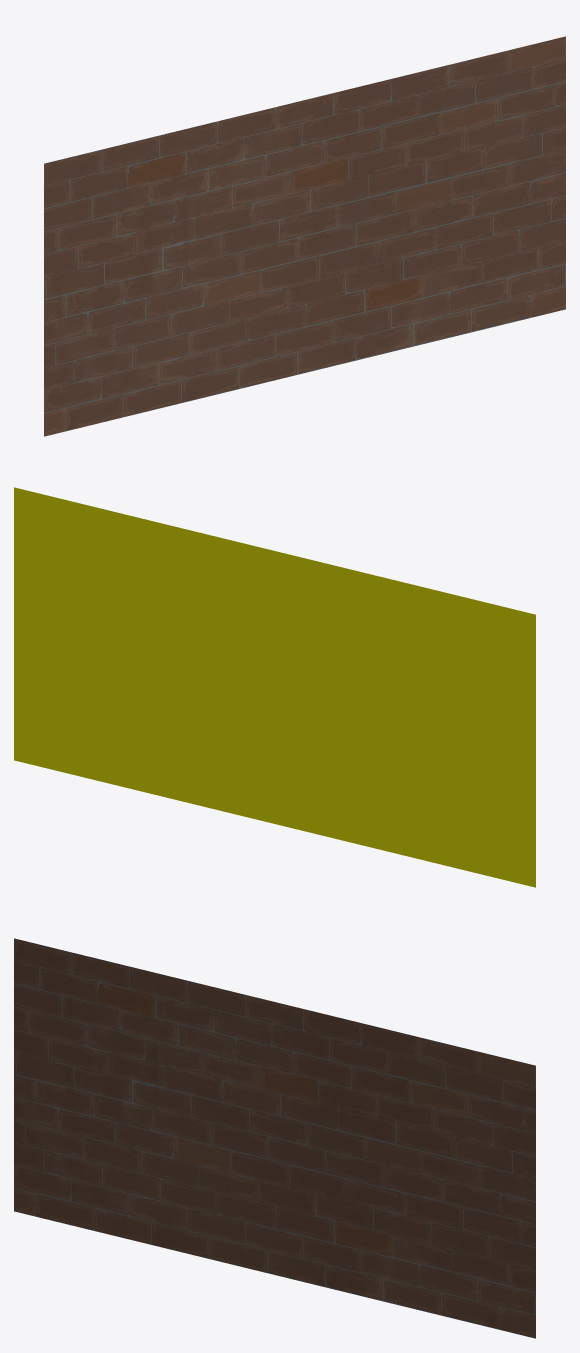
The model's file is brick-plain-1.glb.
The picture shows the model from 3 angles, top to bottom: view 1: azimuth 30°, elevation 25°; view 2: azimuth 150°, elevation 25°; view 3: azimuth 330°, elevation 25°; orthographic projection.
Parts seen in each view (by area): view 1: Brick_Plain_1; view 2: Brick_Plain_1; view 3: Brick_Plain_1.
Boxes of the visible parts, x1,y1,x2,y2 form: Brick_Plain_1: (44,36,565,436); Brick_Plain_1: (14,487,535,887); Brick_Plain_1: (14,938,535,1338).
Bounding box in the file's own units: 2 × 1 × 0.2.
2 materials, 1 textured.
